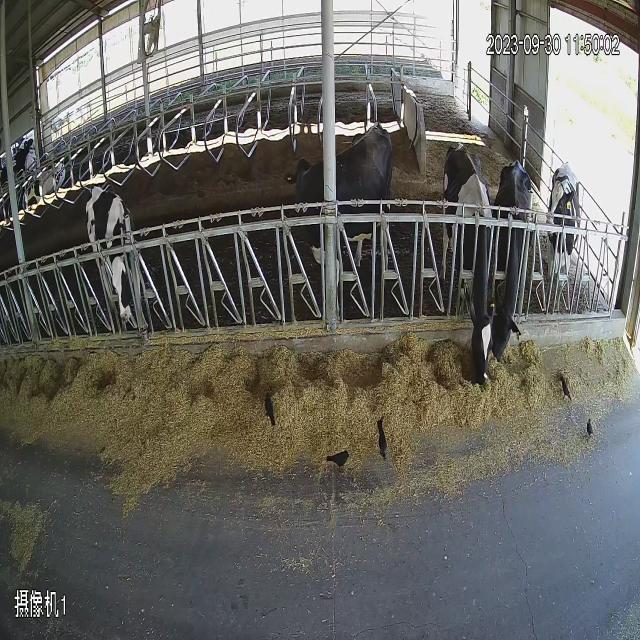standing: (286, 108, 412, 329), (80, 172, 160, 356), (440, 130, 493, 406), (497, 135, 550, 406), (549, 138, 615, 342)
